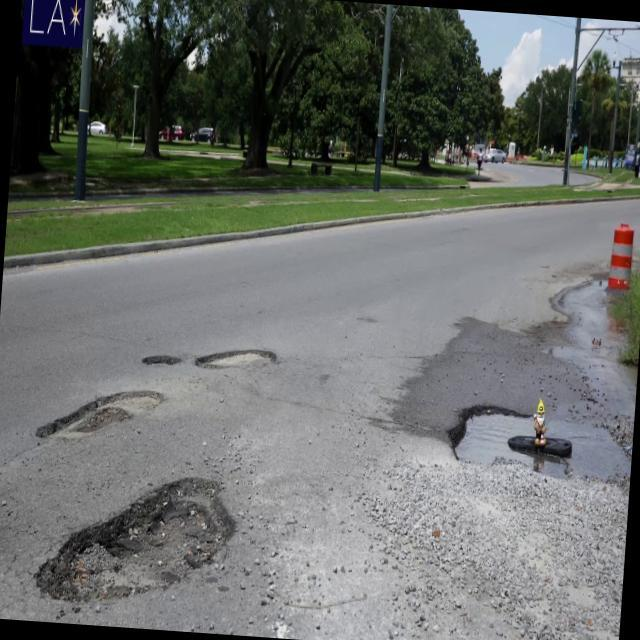Pothole: (6, 451, 260, 615), (440, 379, 636, 516), (21, 366, 172, 444), (185, 333, 284, 378), (136, 339, 184, 377)
